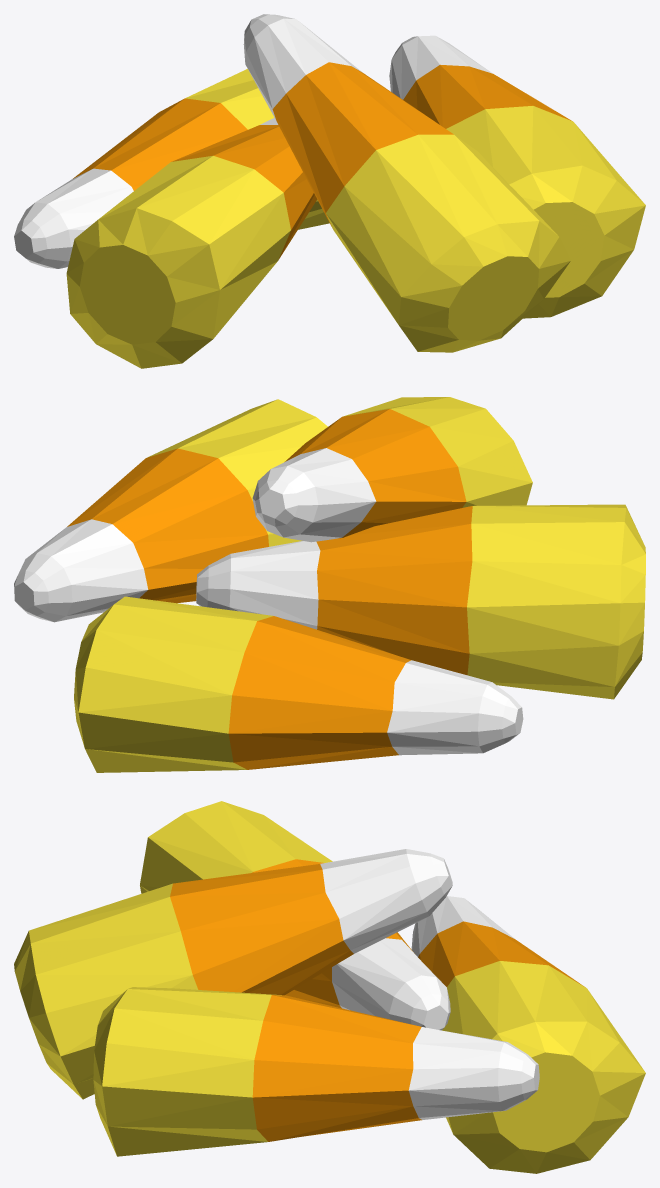
Rendered from Banana.glb.
3 renders of one model, top to bottom at view 1: azimuth 30°, elevation 25°; view 2: azimuth 150°, elevation 25°; view 3: azimuth 270°, elevation 25°, orthographic. The views are drawn at different scales.
Visible parts, largest first — view 1: Node; view 2: Node; view 3: Node.
Boxes of the visible parts, x1,y1,x2,y2 form: Node: (14, 14, 645, 368); Node: (14, 397, 645, 772); Node: (14, 801, 645, 1173).
Size of the model in its own units: 0.3153 by 0.1581 by 0.3361.
